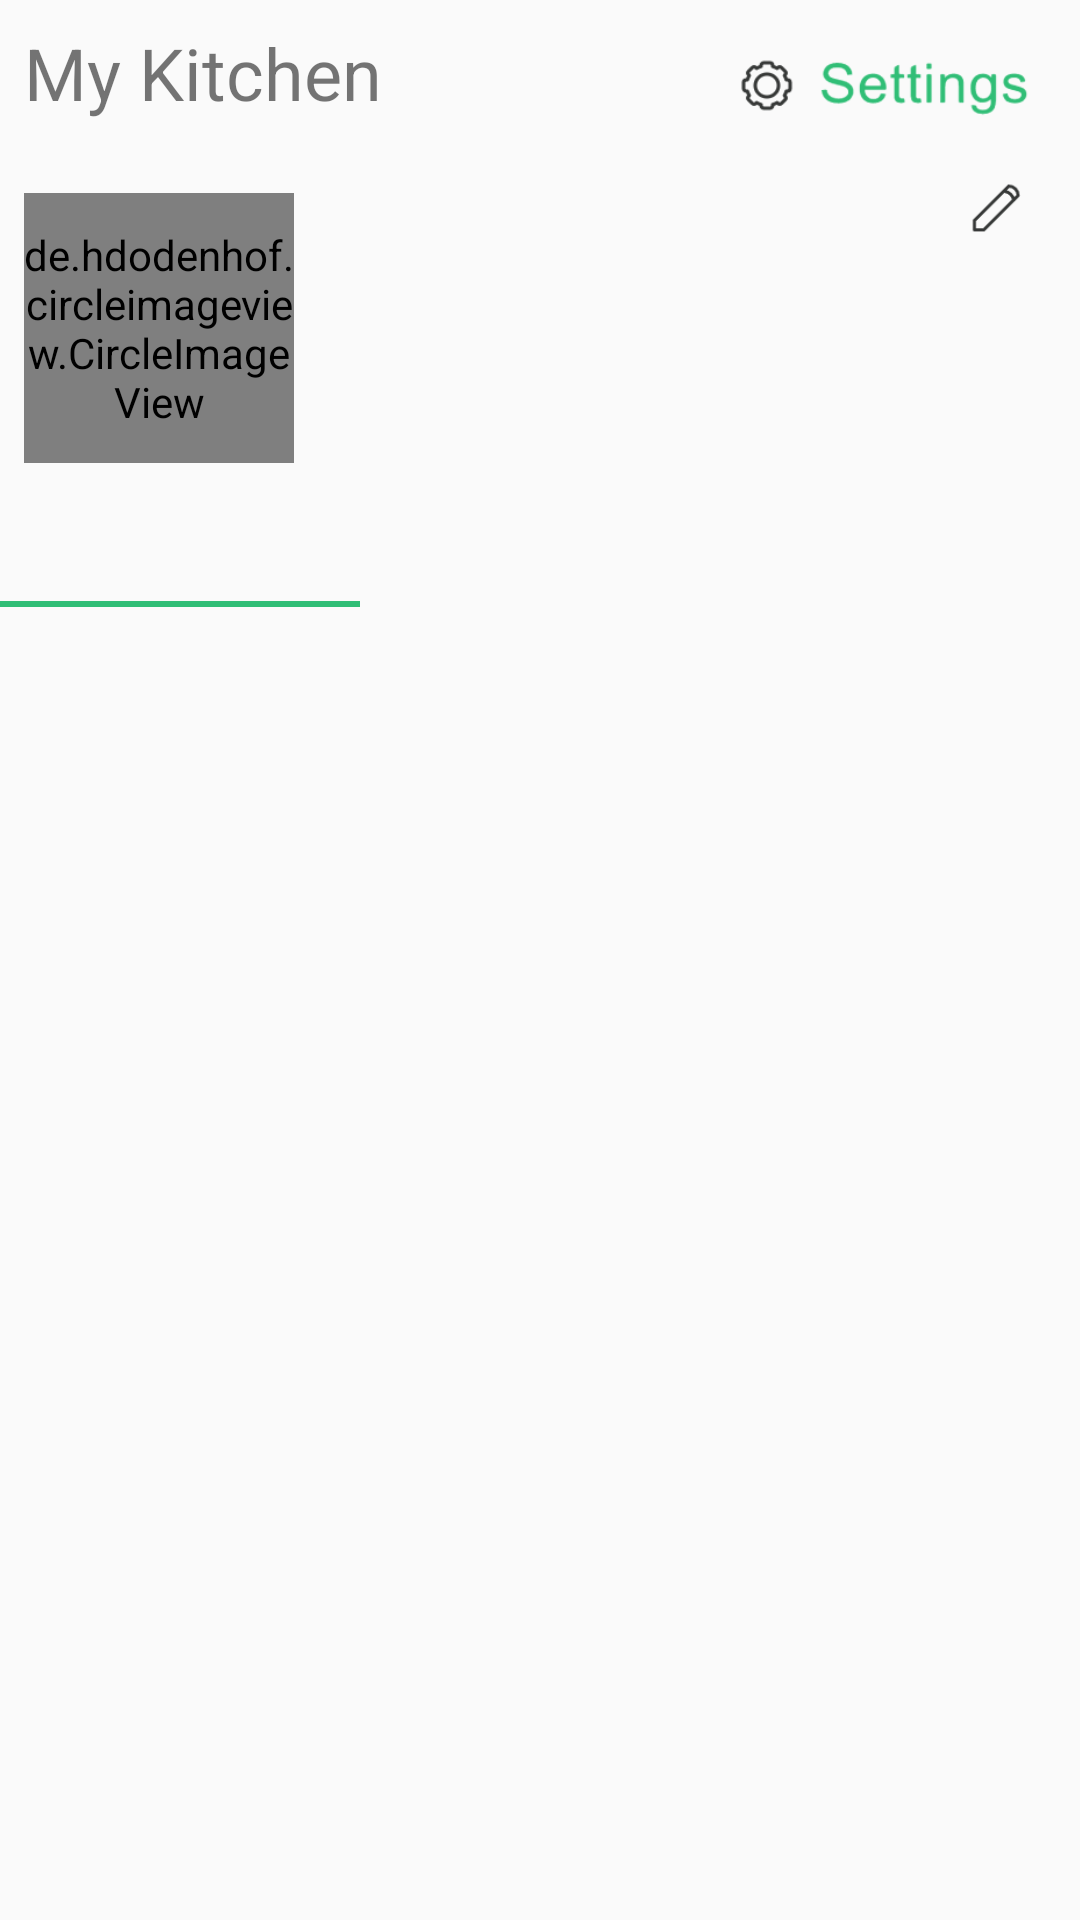

Named icons in this screenshot (1080px×1920px) and their centers, (x,y):
edit profile: (996,208)
